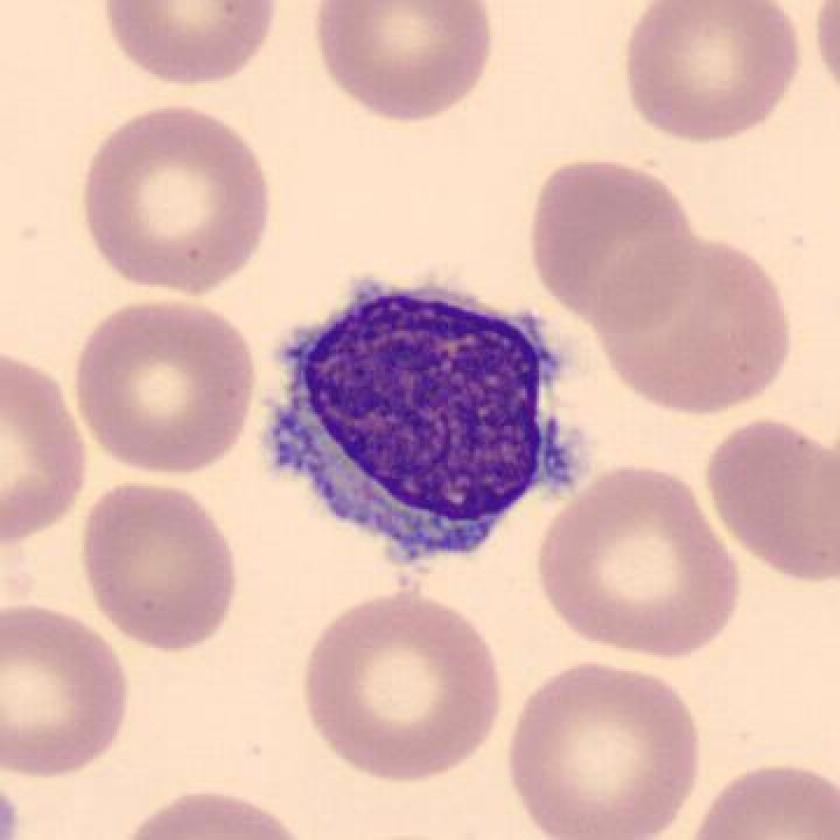lymphocyte: (253, 262, 598, 589)
